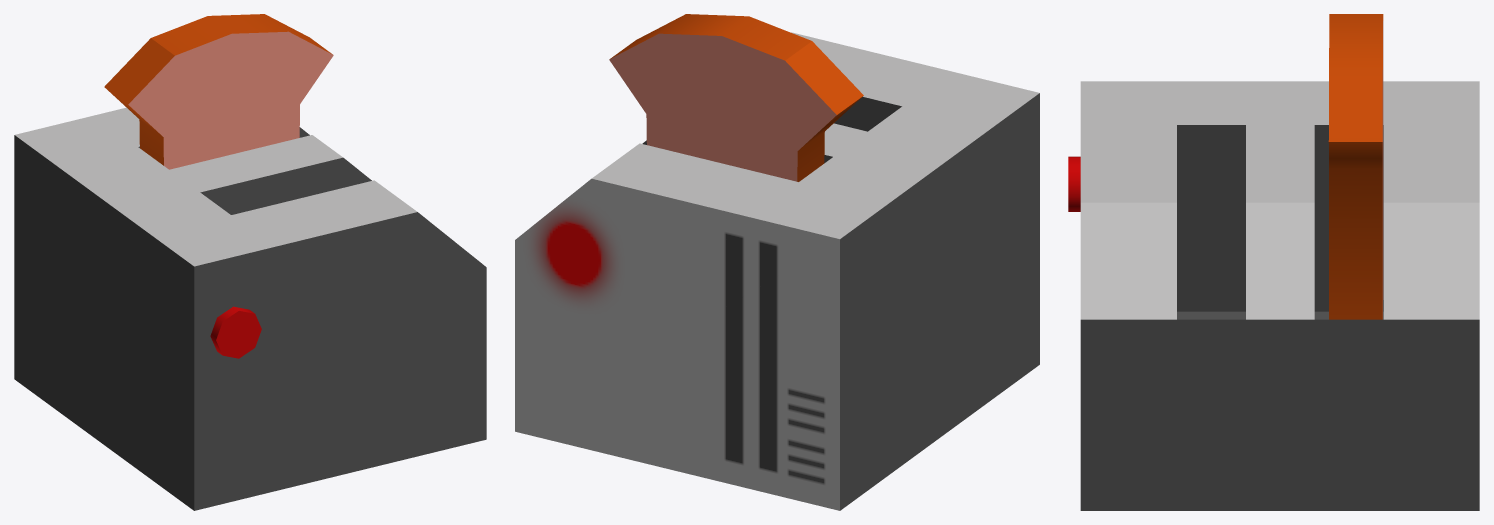
Rendered from Toast machine.fbx.
3 renders of one model, left to right at view 1: azimuth 30°, elevation 25°; view 2: azimuth 150°, elevation 25°; view 3: azimuth 270°, elevation 25°, orthographic. The views are drawn at different scales.
Visible parts, largest first — view 1: Toast machine; view 2: Toast machine; view 3: Toast machine.
Boxes of the visible parts, x1=… form: Toast machine: x1=14, y1=14, x2=486, y2=510; Toast machine: x1=515, y1=14, x2=1039, y2=510; Toast machine: x1=1068, y1=14, x2=1479, y2=510.
Size of the model in its own units: 23.29 by 27.51 by 25.59.
